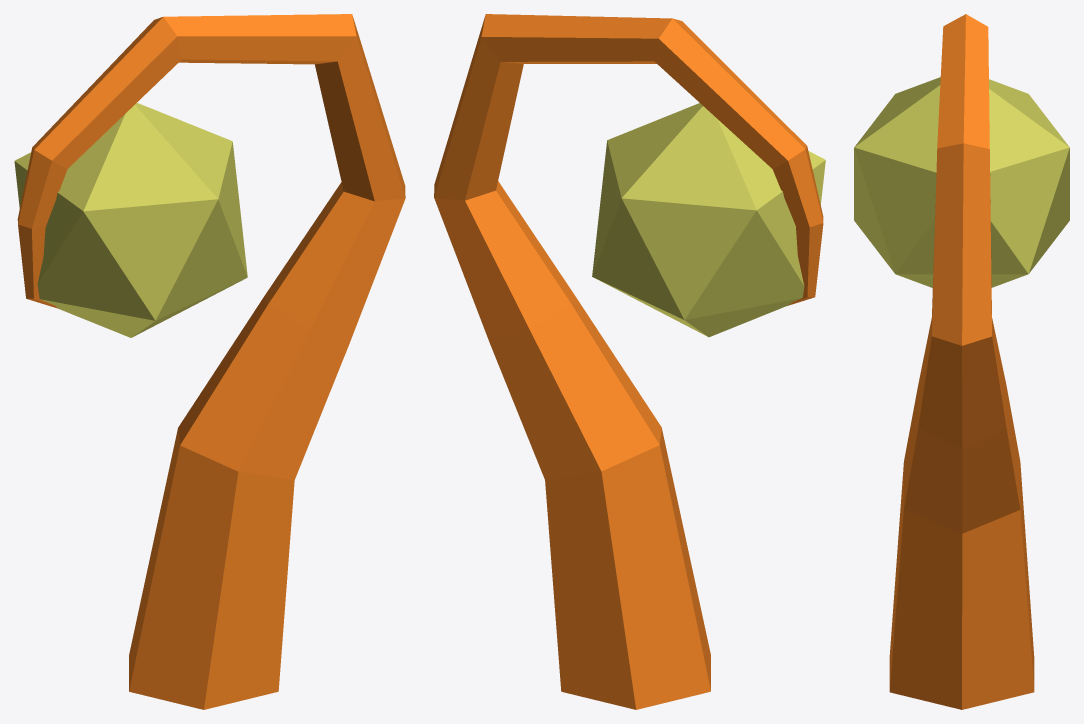
File: st1_grass1.fbx
3 views of the same model, side by side, from view 1: azimuth 30°, elevation 25°; view 2: azimuth 150°, elevation 25°; view 3: azimuth 270°, elevation 25° (orthographic). The views are drawn at different scales.
Visible parts, largest first — view 1: BezierCurve; view 2: BezierCurve; view 3: BezierCurve.
Boxes of the visible parts, left/top/right/bottom form: BezierCurve: left=14, top=14, right=405, bottom=709; BezierCurve: left=434, top=14, right=825, bottom=709; BezierCurve: left=854, top=14, right=1069, bottom=709.
Size of the model in its own units: 91.55 by 150 by 45.61.
